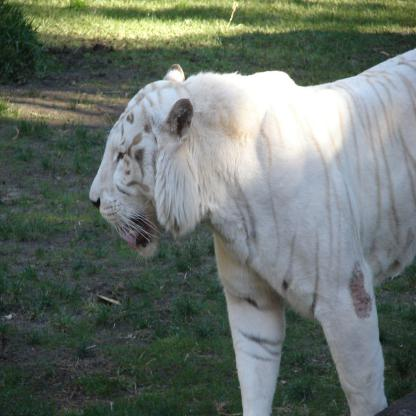tiger: (77, 64, 206, 271)
